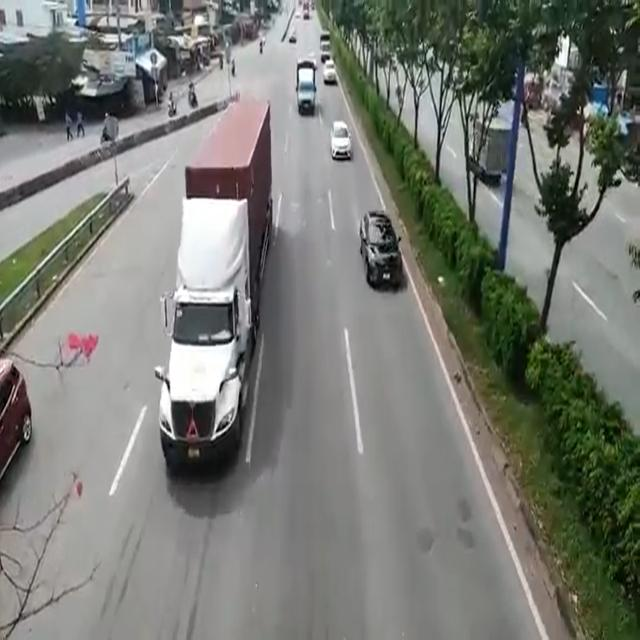car: (360, 216, 399, 283), (332, 121, 349, 164)
truck: (176, 106, 265, 470), (298, 58, 315, 116)
